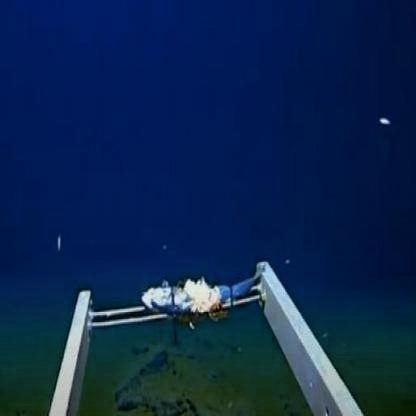misc: (123, 251, 261, 350)
